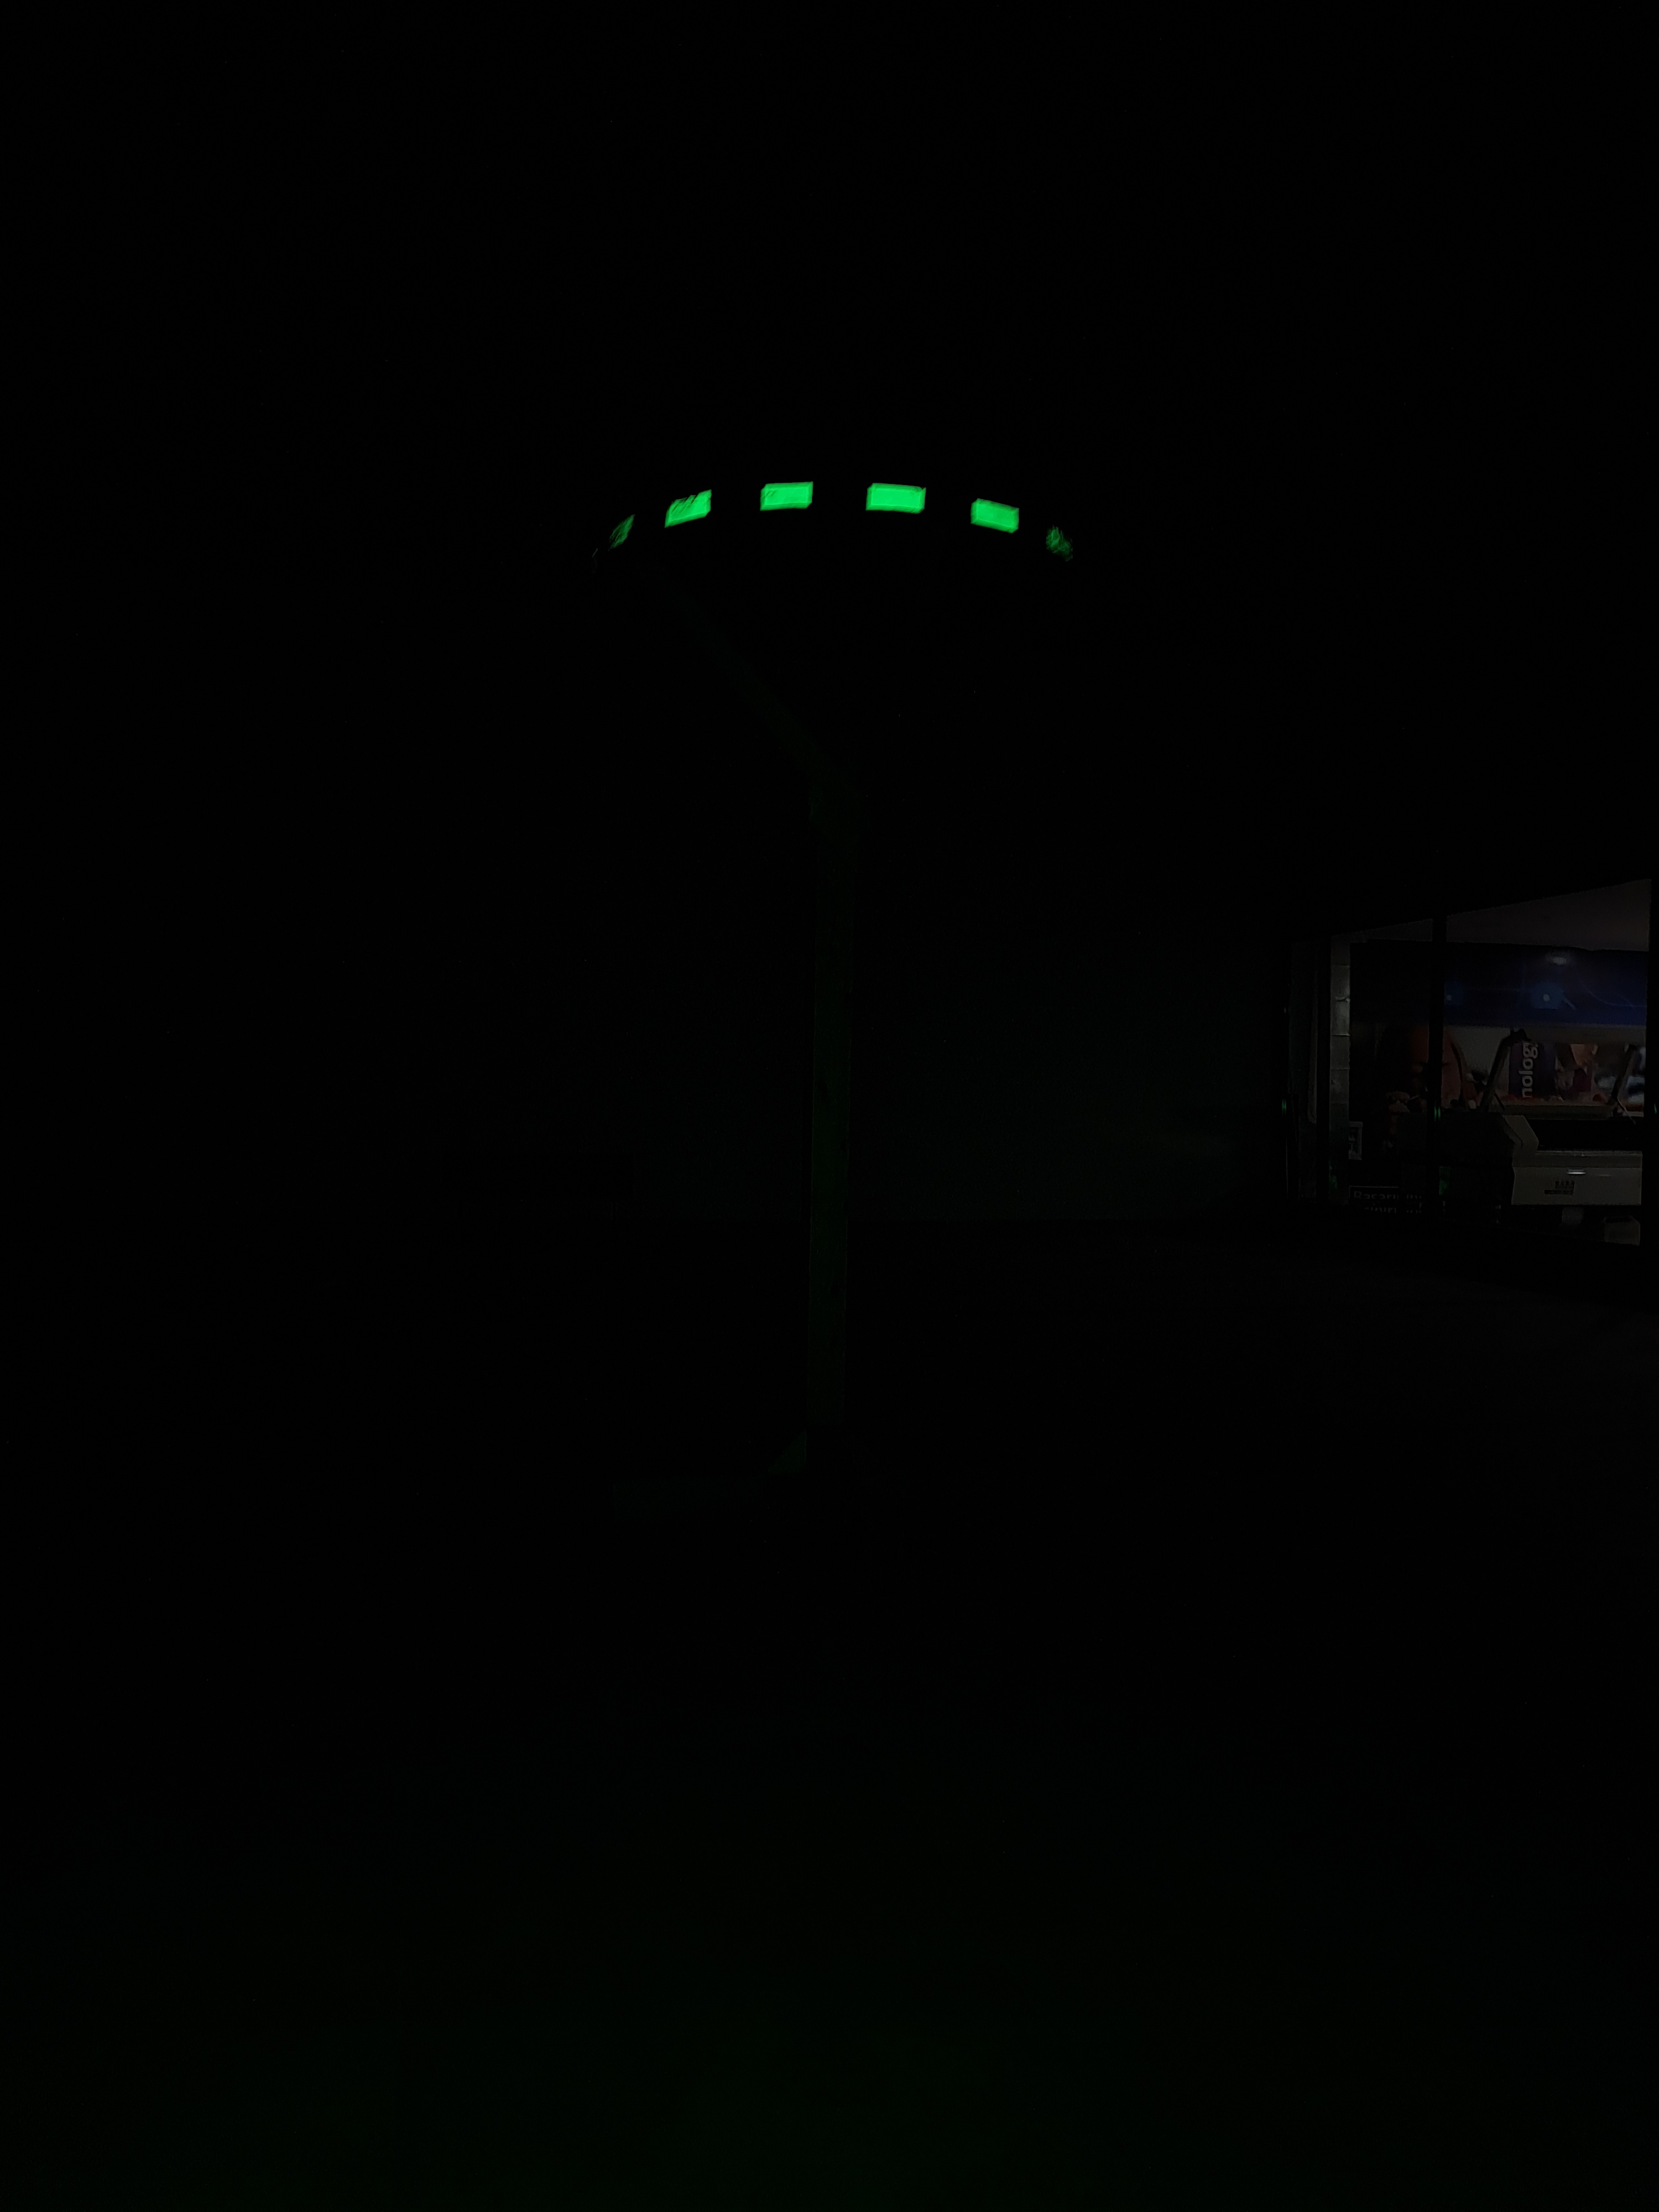hoop: (566, 470, 1094, 583)
